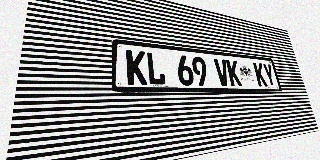6: (176, 55, 195, 86)
9: (191, 56, 209, 86)
K: (126, 50, 147, 85), (226, 60, 242, 86), (253, 62, 268, 86)
L: (146, 52, 166, 85)
V: (214, 58, 231, 86)
Y: (262, 63, 276, 86)
